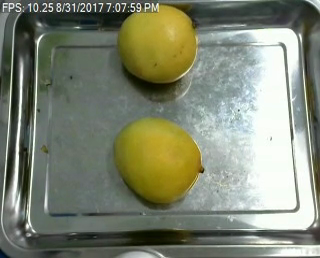Mango: (114, 117, 201, 202), (117, 2, 198, 83)
